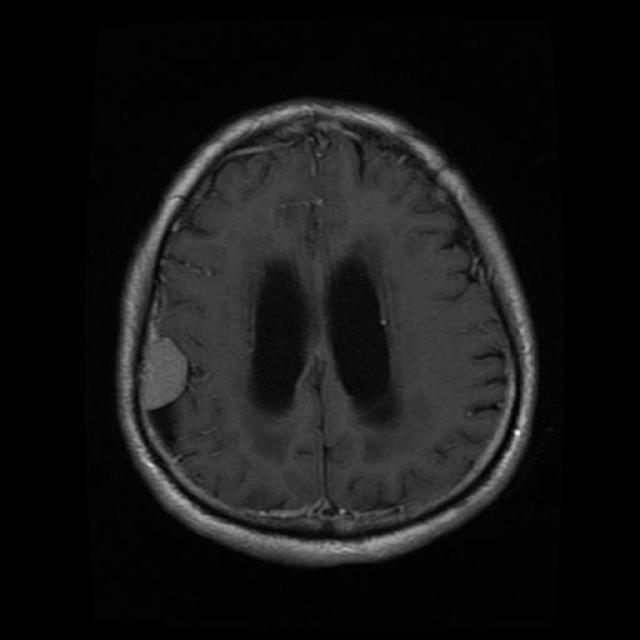meningioma: (144, 338, 188, 408)
